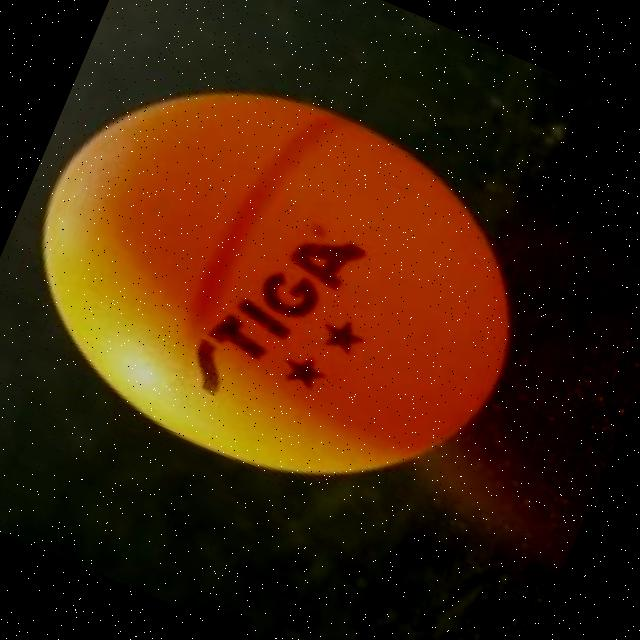ping-pong-ball: (0, 24, 573, 546)
